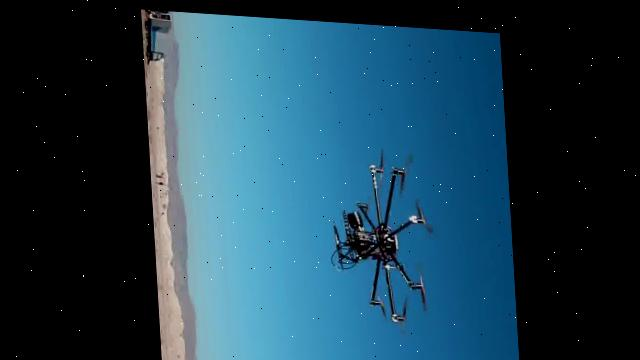drone: (322, 146, 438, 323)
